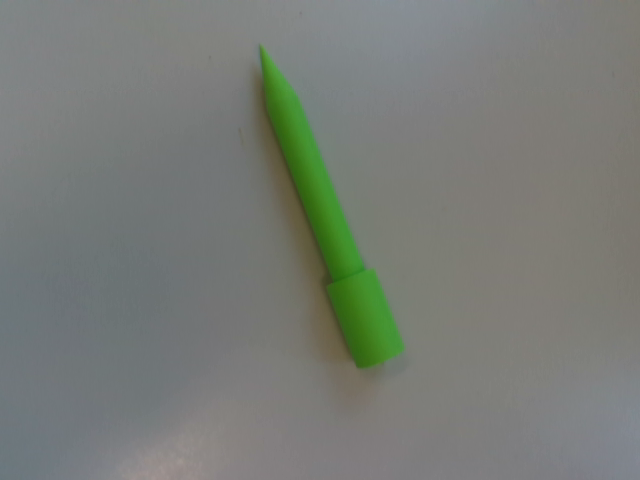Probe: (254, 35, 409, 377)
